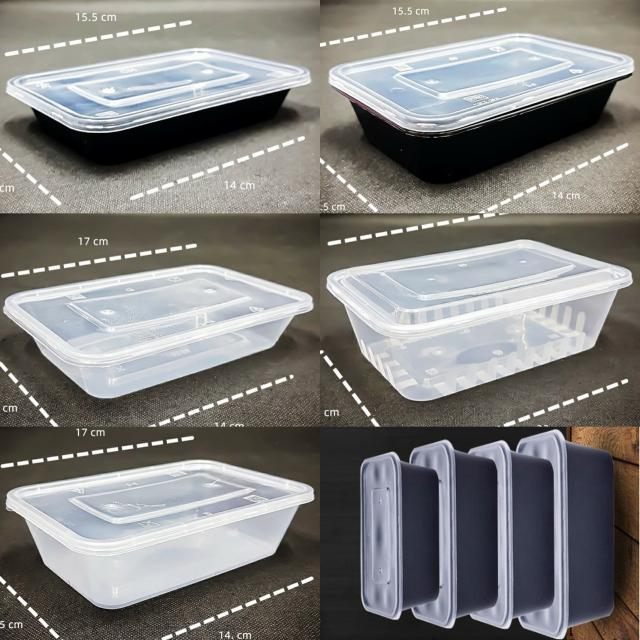Single-Use-Plastic: (327, 240, 632, 400), (6, 460, 314, 609), (329, 34, 634, 182), (4, 265, 313, 397), (6, 48, 310, 163), (517, 430, 614, 639), (410, 440, 498, 628), (469, 440, 554, 628), (360, 452, 439, 619)
